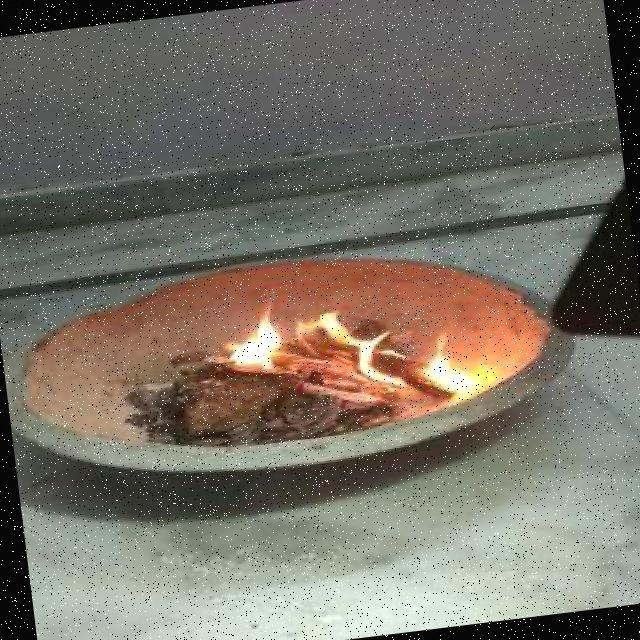Fire: (197, 292, 298, 381), (305, 302, 396, 389), (412, 325, 490, 401)
